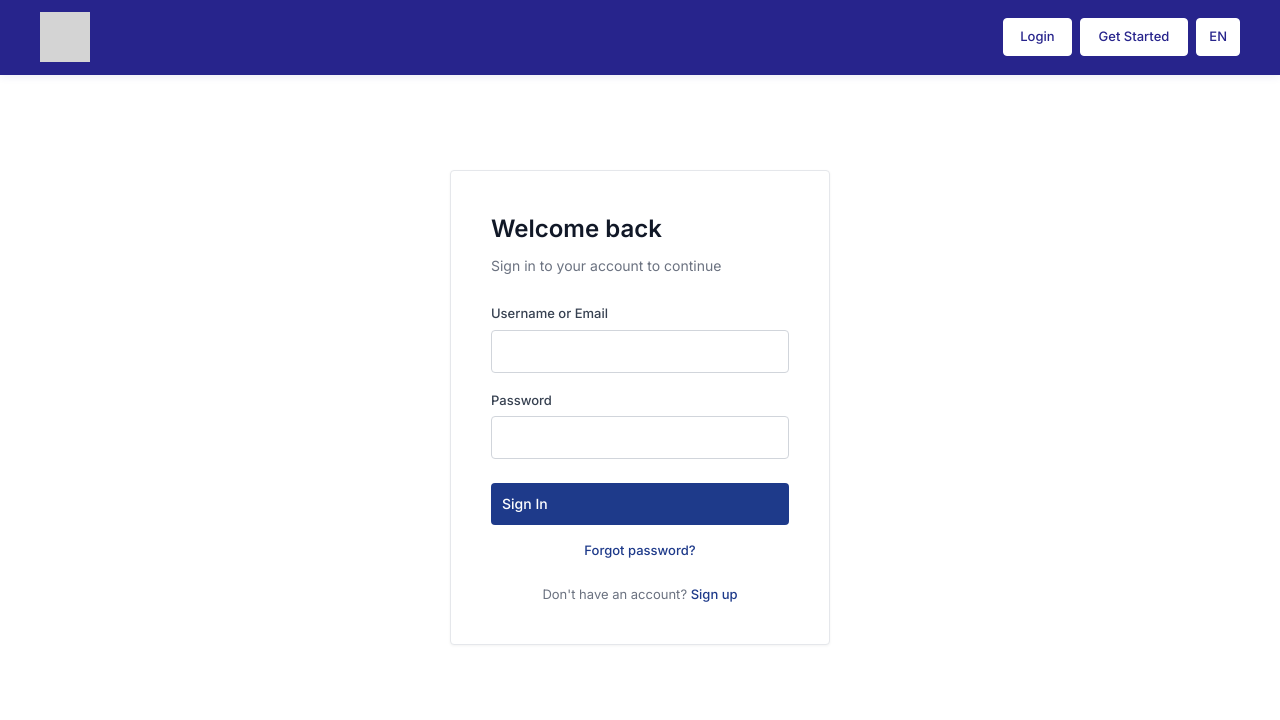
Test: Login Flow › shows error for invalid credentials
The width and height of the screenshot is (1280, 720).
In the field: {"x": 640, "y": 352} [491,330,789,373], type "wronguser"
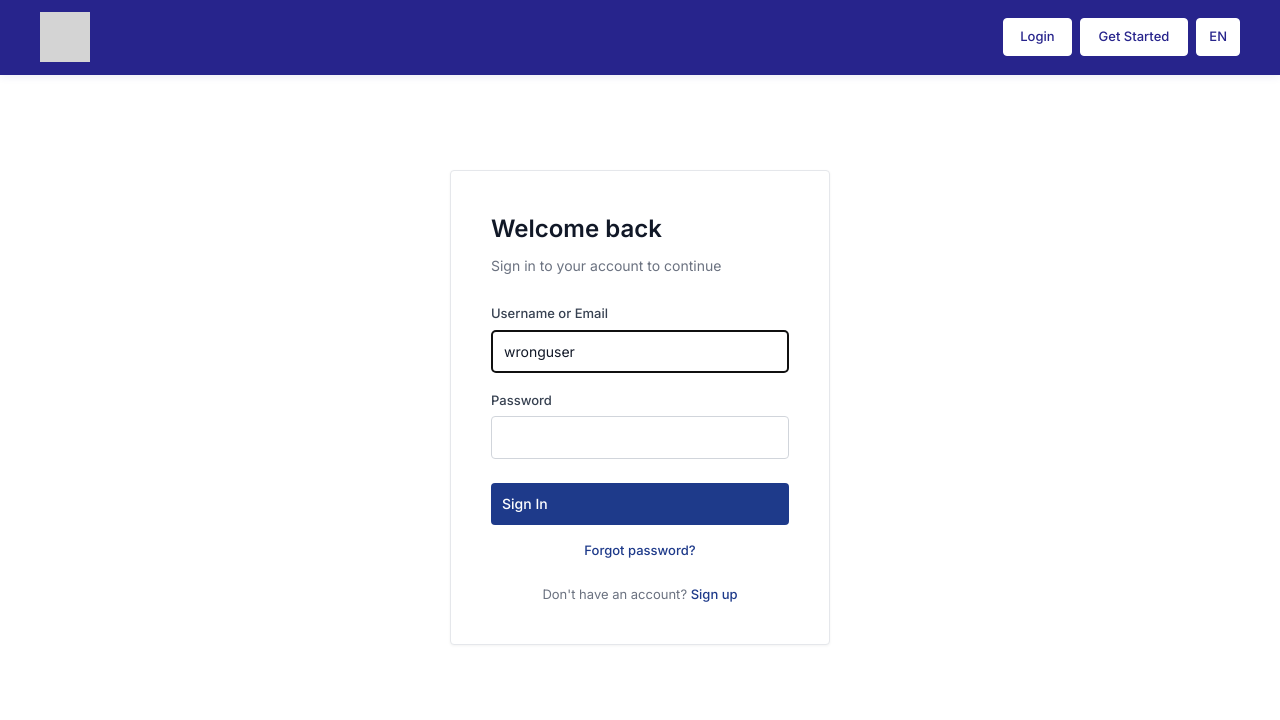
In the password field: {"x": 640, "y": 438} [491,416,789,459], type "wrongpass"
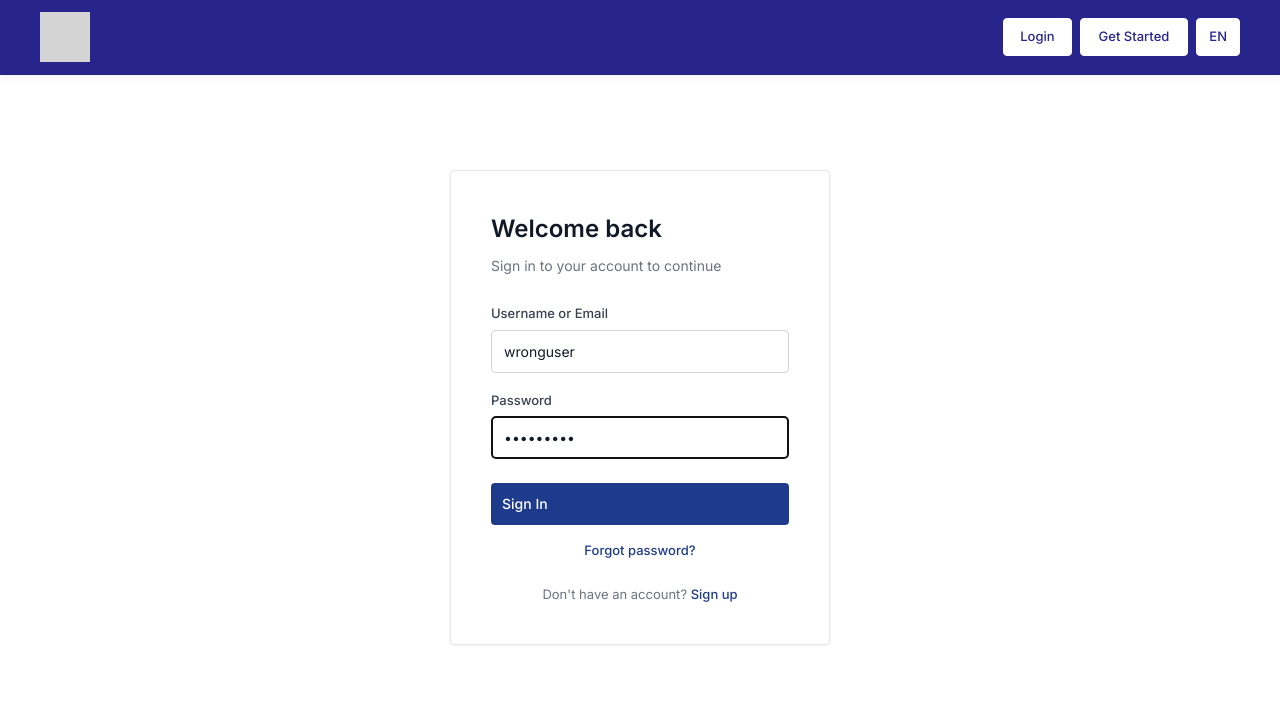
Click the submit button: {"x": 525, "y": 504} [491,483,789,525]
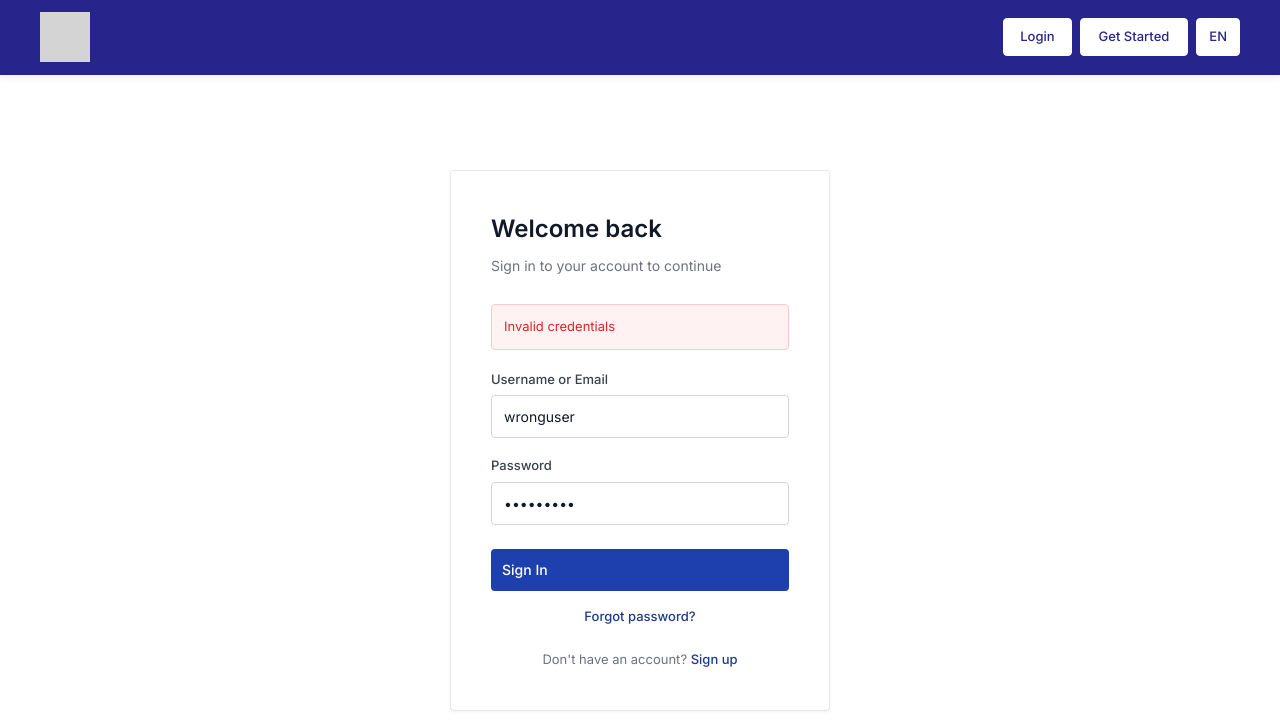
Expected: the text "Invalid credentials" is shown, [491,304,789,350]
